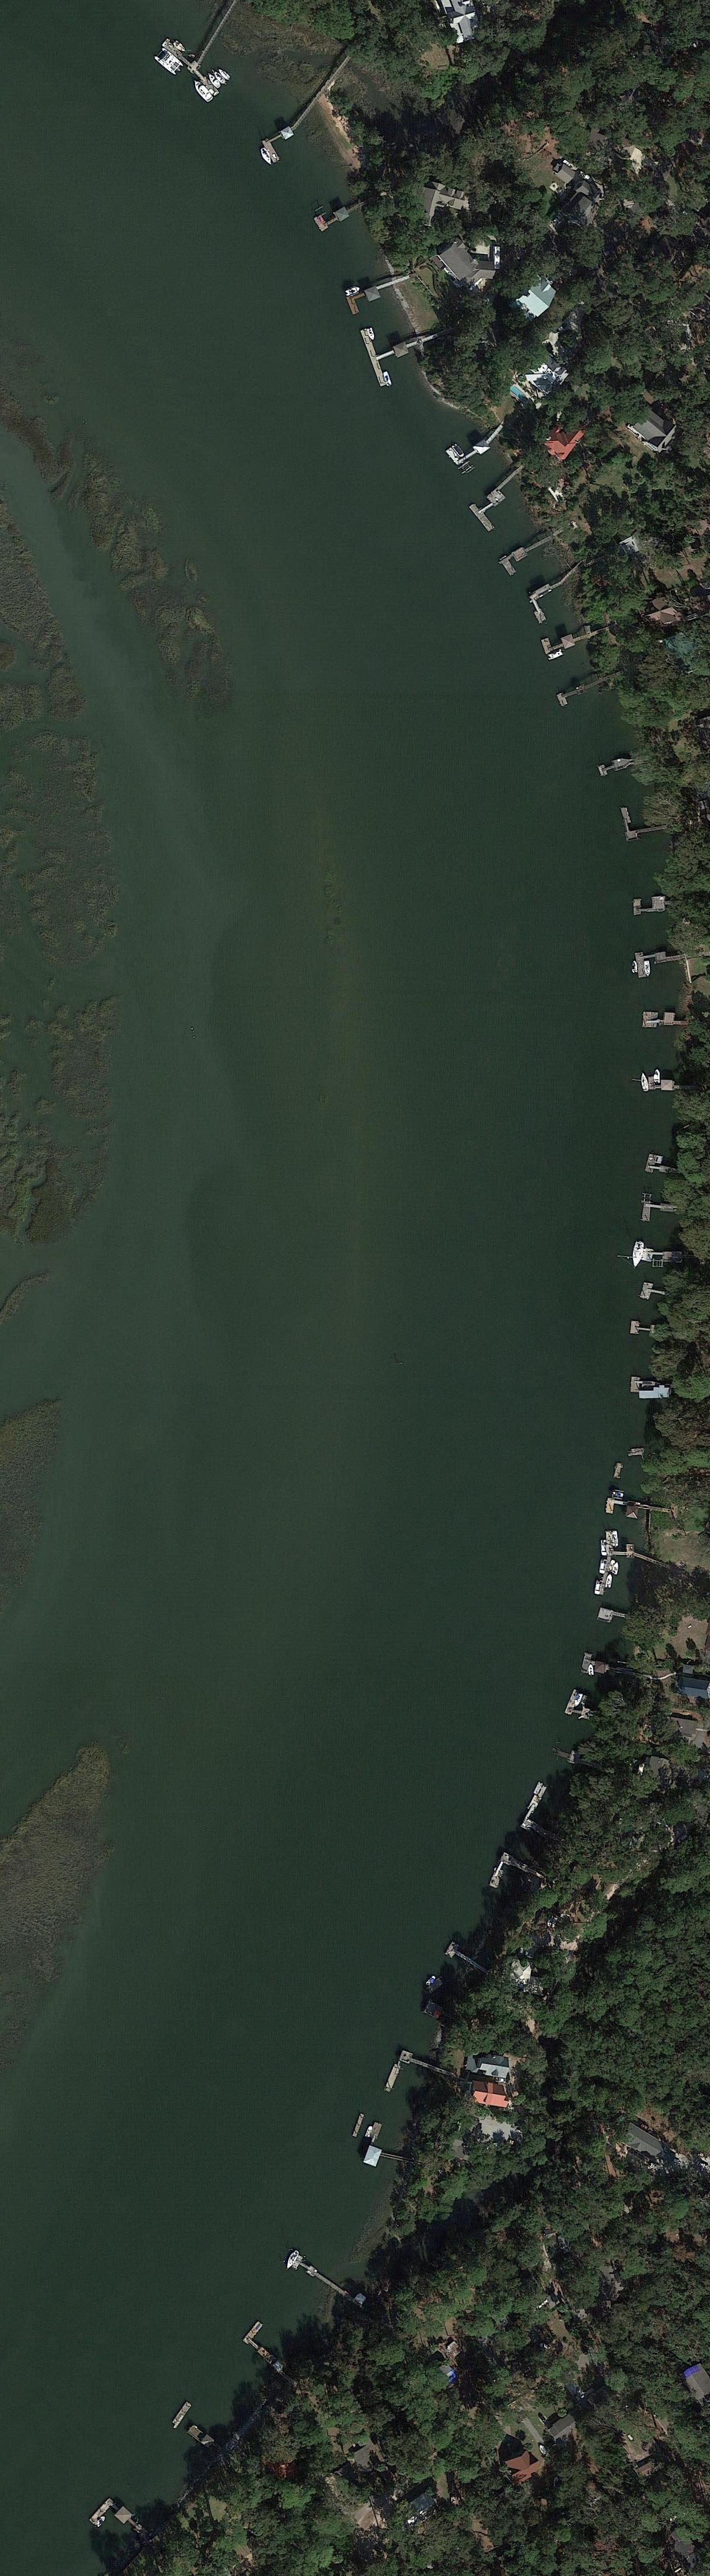harbor: (151, 0, 270, 97), (360, 314, 436, 386), (470, 465, 539, 531), (385, 2049, 452, 2109), (89, 2494, 151, 2558), (242, 2320, 302, 2382), (524, 567, 590, 624), (362, 2121, 417, 2180), (447, 419, 508, 470), (490, 1853, 546, 1907), (291, 2256, 353, 2303), (500, 531, 557, 577), (347, 276, 409, 315), (557, 670, 621, 706), (541, 623, 598, 657), (314, 194, 365, 232), (565, 1687, 613, 1727), (621, 802, 669, 841), (444, 1942, 495, 1978), (261, 123, 306, 163), (595, 1529, 620, 1597), (634, 946, 687, 977), (518, 1781, 549, 1832), (580, 1653, 626, 1684), (598, 752, 652, 777), (606, 1497, 659, 1521), (187, 2423, 222, 2456), (643, 1010, 692, 1032), (641, 1201, 682, 1224), (634, 895, 684, 913), (646, 1153, 679, 1180), (648, 1076, 697, 1092), (598, 1607, 633, 1630), (629, 1375, 666, 1396), (639, 1281, 672, 1304), (641, 1249, 687, 1263), (629, 1321, 666, 1339)
ship: (191, 79, 215, 105), (629, 1239, 646, 1270), (258, 146, 274, 169), (210, 67, 228, 87), (284, 2249, 299, 2272), (205, 71, 222, 90), (217, 66, 232, 82), (572, 1690, 585, 1709), (345, 284, 362, 297), (94, 2514, 107, 2528), (537, 2443, 551, 2458), (639, 1073, 649, 1092), (171, 39, 186, 53), (643, 959, 652, 977), (611, 1561, 621, 1575), (383, 371, 393, 386), (367, 327, 376, 342), (365, 2123, 373, 2139), (587, 1663, 595, 1677), (611, 1490, 625, 1498), (654, 1068, 661, 1084), (606, 1574, 613, 1589), (631, 959, 638, 973)
